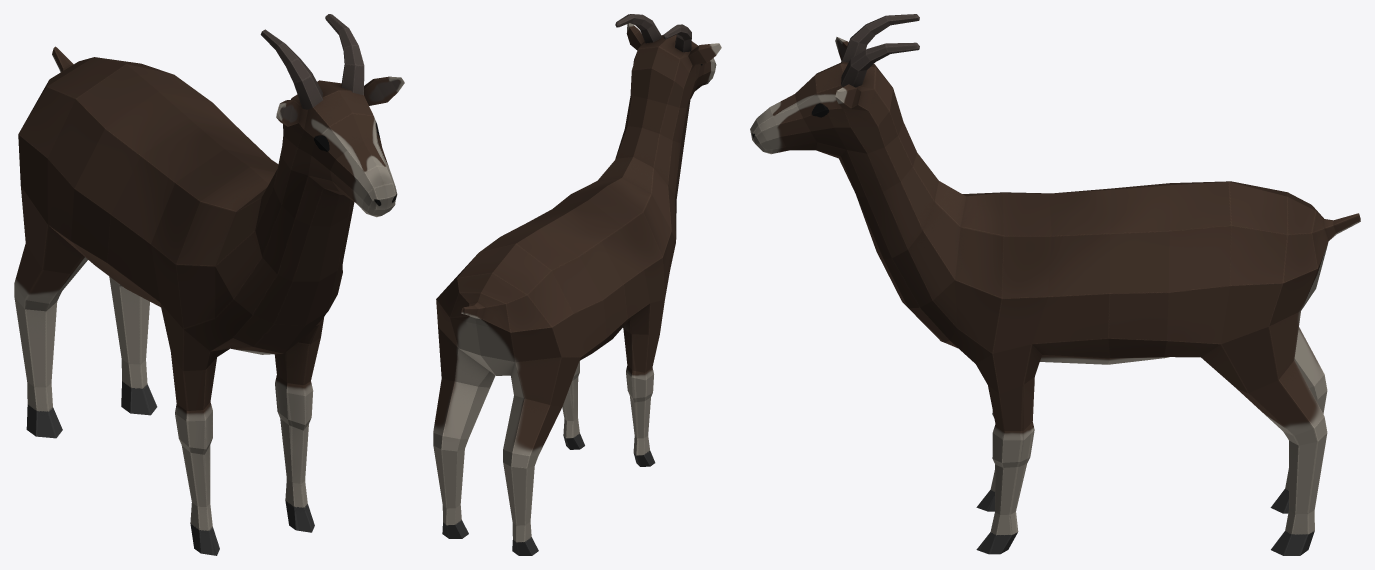
The model's file is cabra.glb.
3 views of the same model, side by side, from view 1: azimuth 30°, elevation 25°; view 2: azimuth 150°, elevation 25°; view 3: azimuth 270°, elevation 25° (orthographic). The views are drawn at different scales.
Visible parts, largest first — view 1: Goat_mesh; view 2: Goat_mesh; view 3: Goat_mesh.
Boxes of the visible parts, x1,y1,x2,y2 form: Goat_mesh: (14, 14, 404, 555); Goat_mesh: (433, 14, 721, 555); Goat_mesh: (750, 14, 1360, 555).
Bounding box in the file's own units: 2.26 × 6.6 × 7.31.
1 material, 1 textured.
